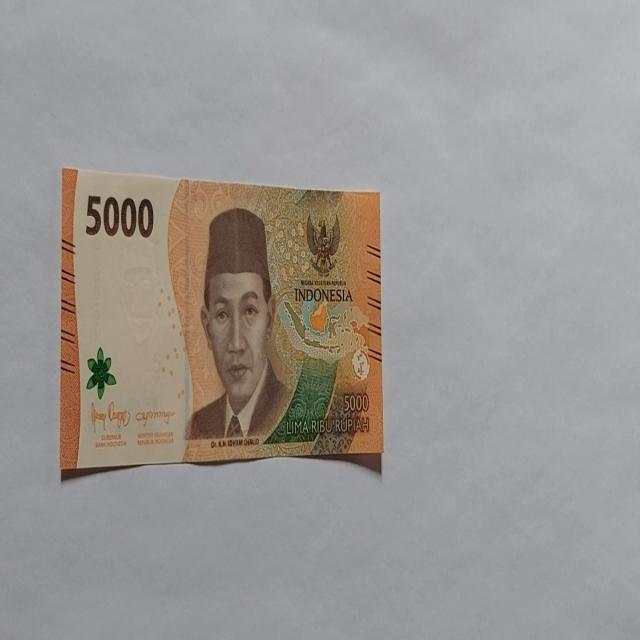lima ribu rupiah: (59, 166, 383, 478), (184, 205, 292, 446)
